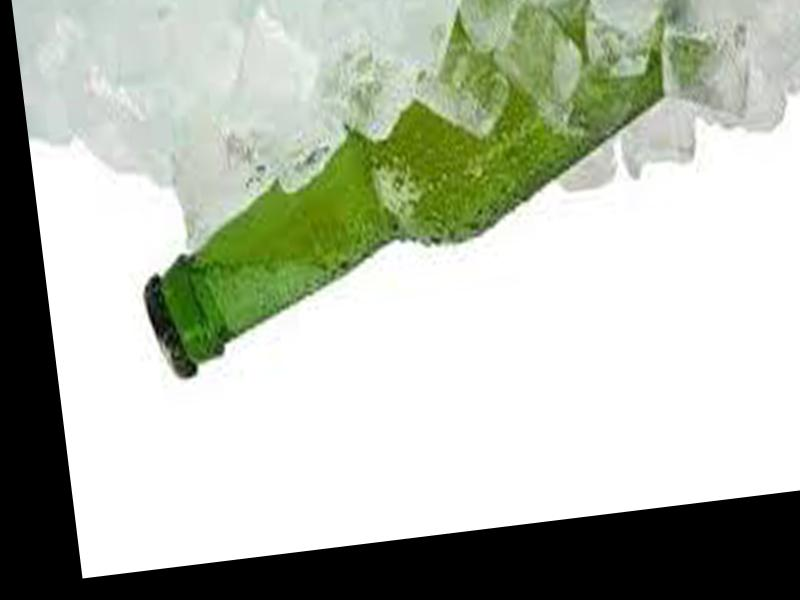Beer: (112, 14, 733, 378)
